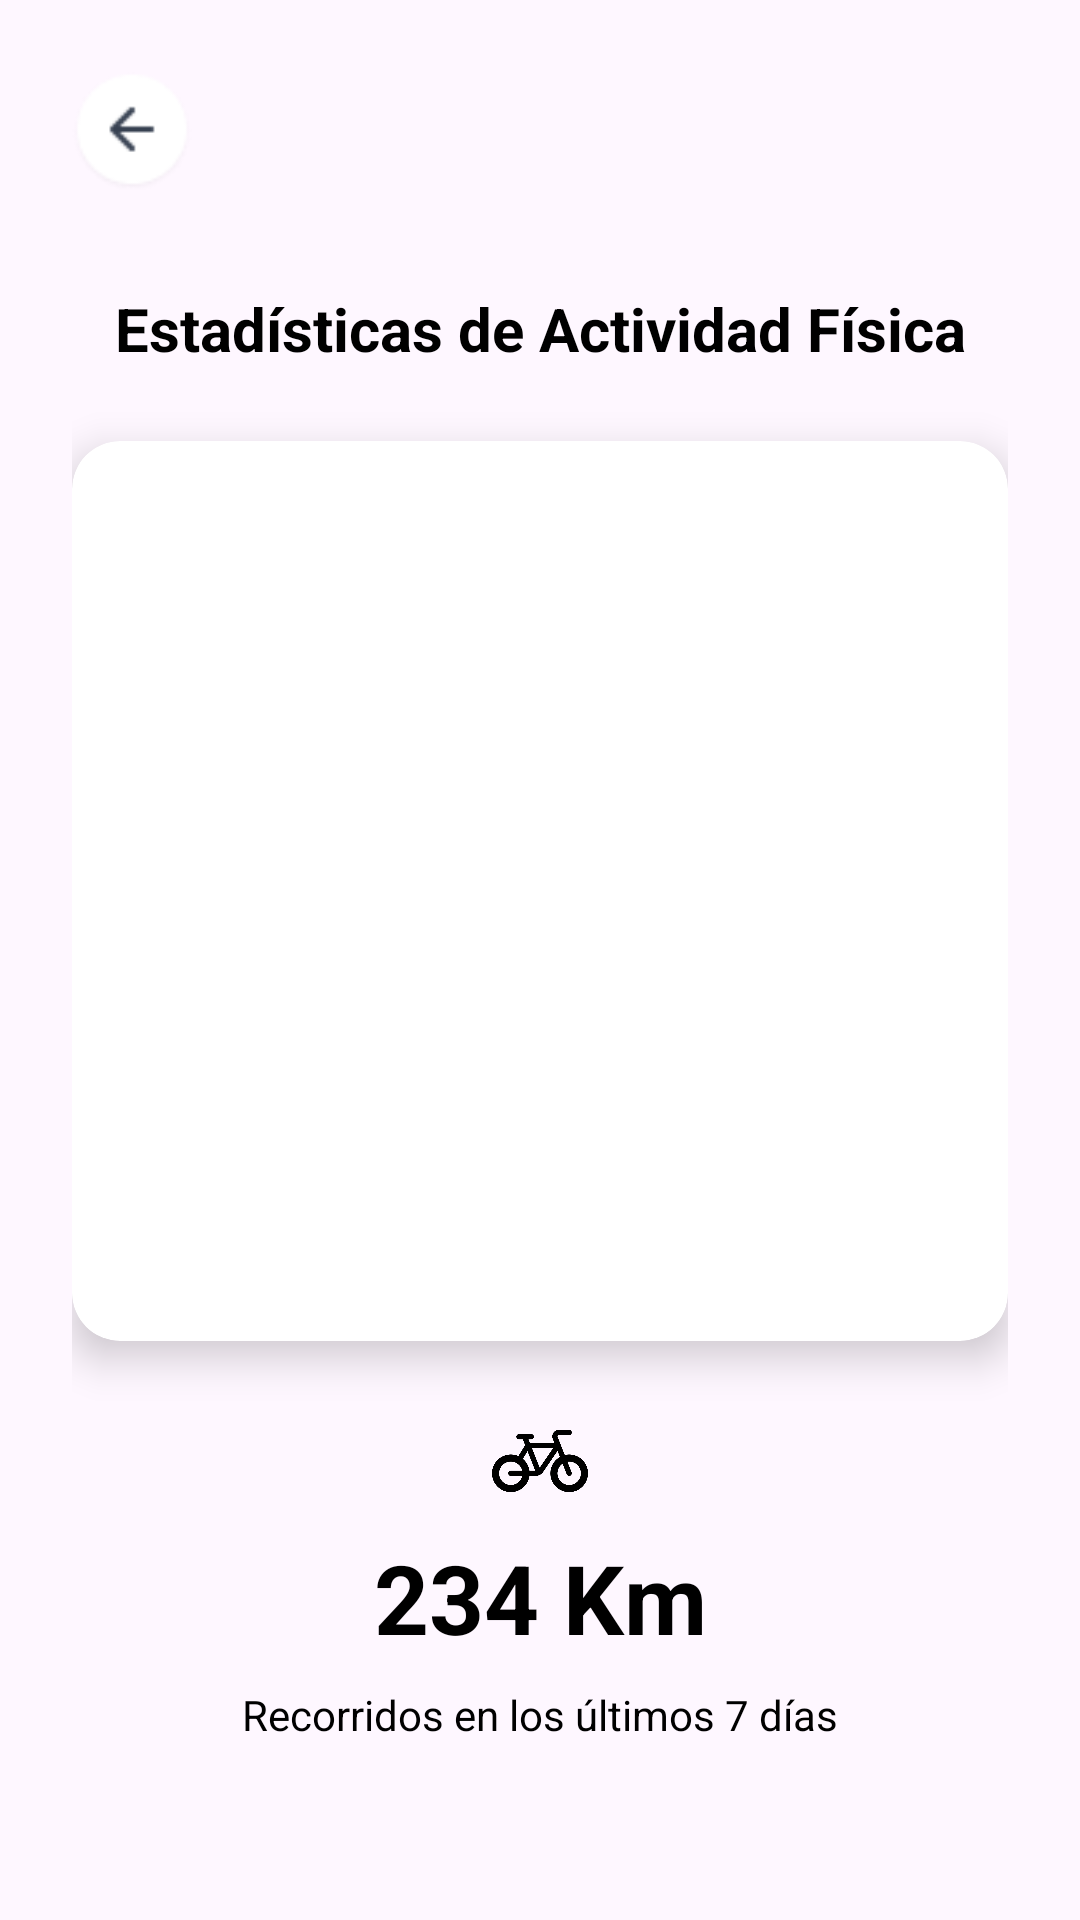

Icon bounding boxes for this 1080px×1920px phone screenshot, format (x1, y1, x2, y2):
back: (79, 76, 185, 183)
bike: (492, 1430, 588, 1492)
